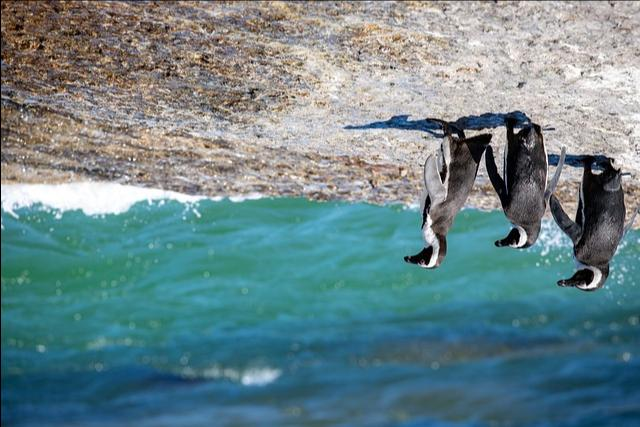Non_Gorille: (288, 50, 640, 334)
